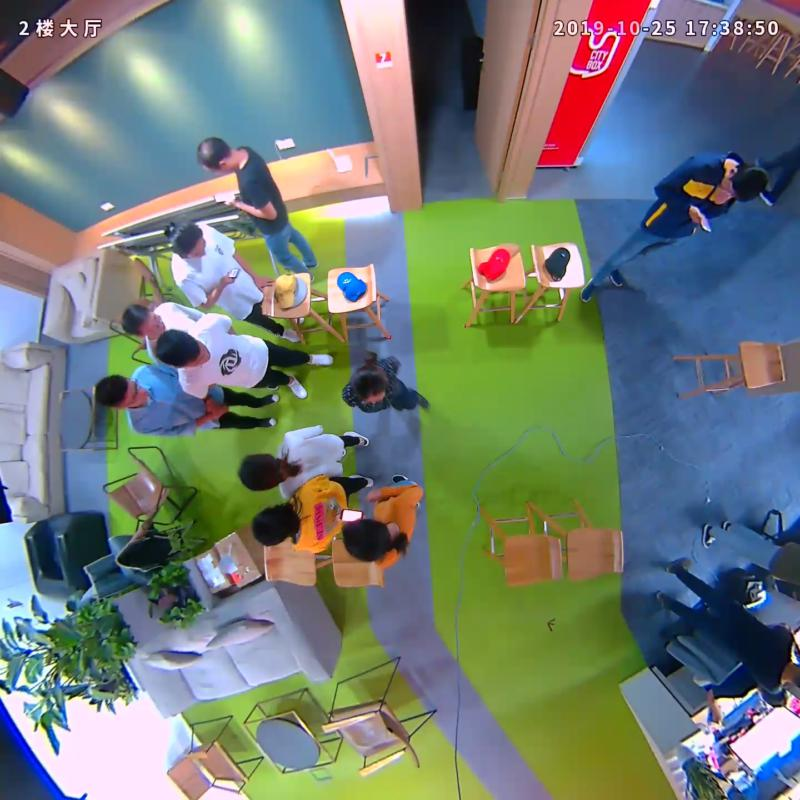head: (340, 519, 392, 562), (156, 327, 207, 369), (93, 374, 149, 410), (720, 165, 768, 205), (238, 453, 281, 492), (352, 364, 389, 407), (251, 506, 290, 546), (169, 221, 207, 260), (196, 136, 233, 176), (121, 303, 164, 337)
